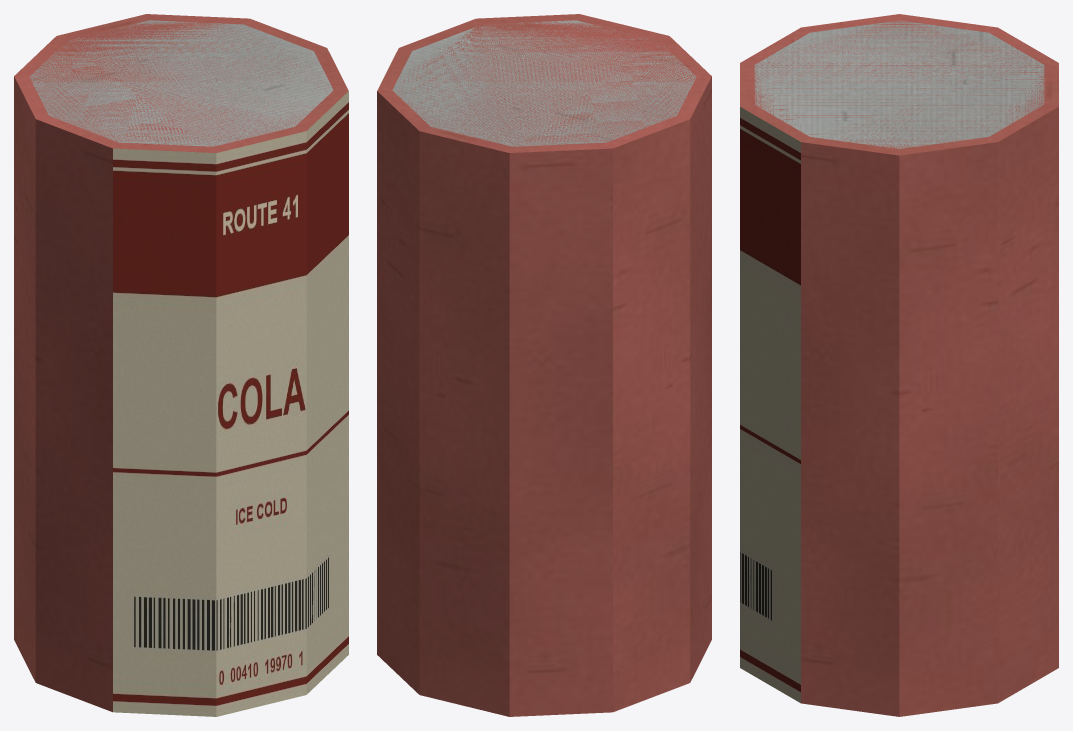
Rendered from sodacan.glb.
3 renders of one model, left to right at view 1: azimuth 30°, elevation 25°; view 2: azimuth 150°, elevation 25°; view 3: azimuth 270°, elevation 25°, orthographic.
Visible parts, largest first — view 1: NC_sodacan; view 2: NC_sodacan; view 3: NC_sodacan.
Boxes of the visible parts, x1,y1,x2,y2 form: NC_sodacan: (14,14,348,716); NC_sodacan: (377,14,711,716); NC_sodacan: (740,14,1058,716).
Bounding box in the file's own units: 0.066 × 0.122 × 0.0628.
Materials: 3 (3 with a texture image).
